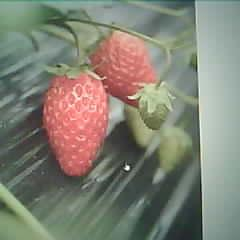straw-ripe: (43, 72, 109, 177)
